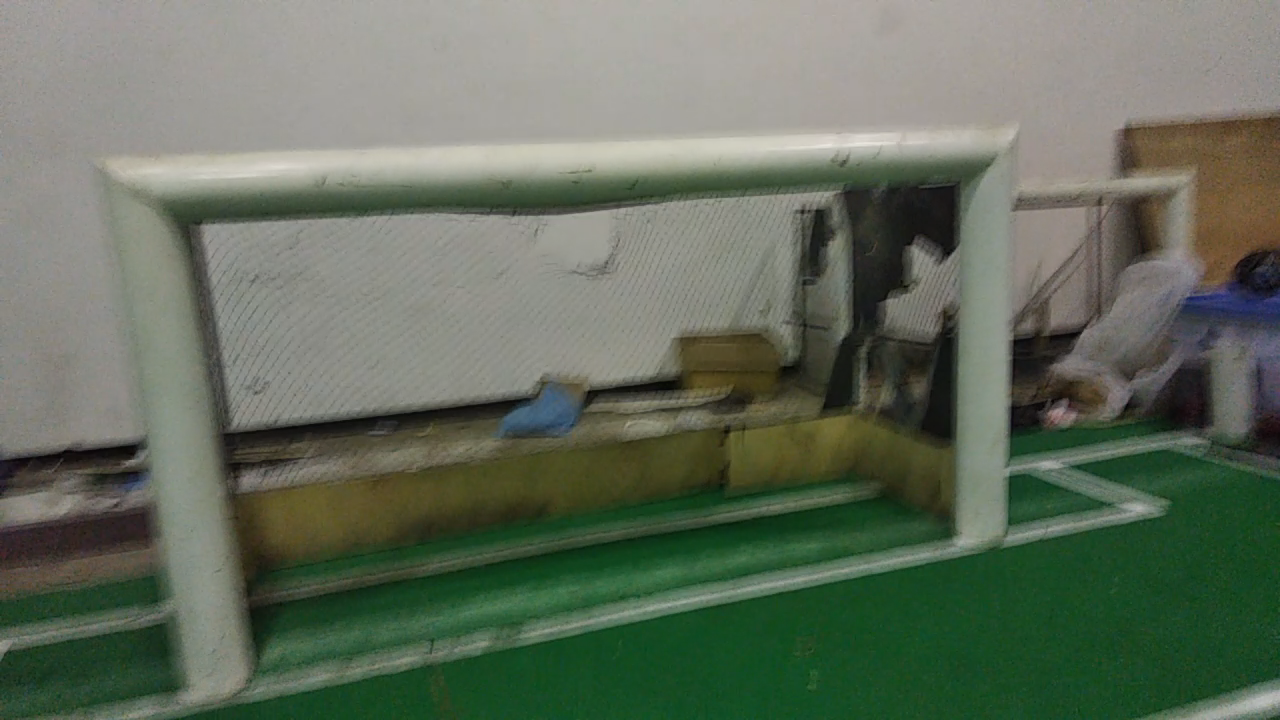gawang: (76, 118, 1026, 707)
